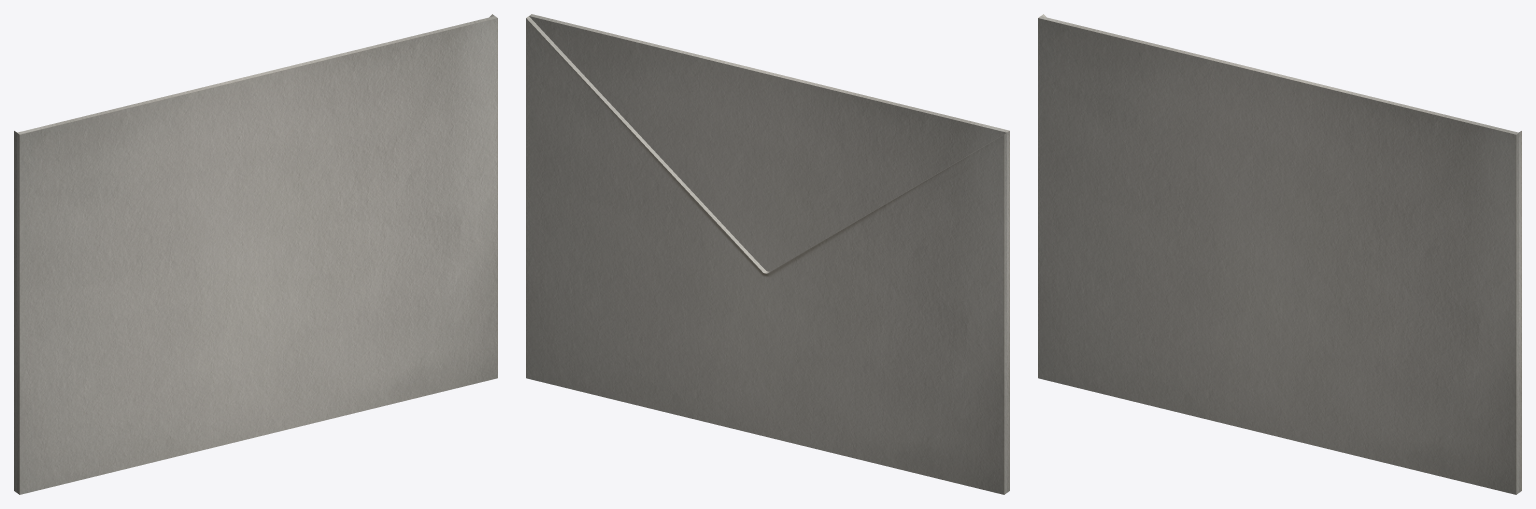
Rendered from Envelope-CAyNNaVQ.glb.
The picture shows the model from 3 angles, left to right: view 1: azimuth 30°, elevation 25°; view 2: azimuth 150°, elevation 25°; view 3: azimuth 330°, elevation 25°; orthographic projection.
Parts seen in each view (by area): view 1: grid1; view 2: grid1; view 3: grid1.
Part boxes in pixels (left/top/right/bottom): grid1: left=14, top=14, right=497, bottom=494; grid1: left=526, top=14, right=1009, bottom=494; grid1: left=1038, top=14, right=1521, bottom=494.
Size of the model in its own units: 1 by 0.72 by 0.02.
2 materials, 2 textured.
